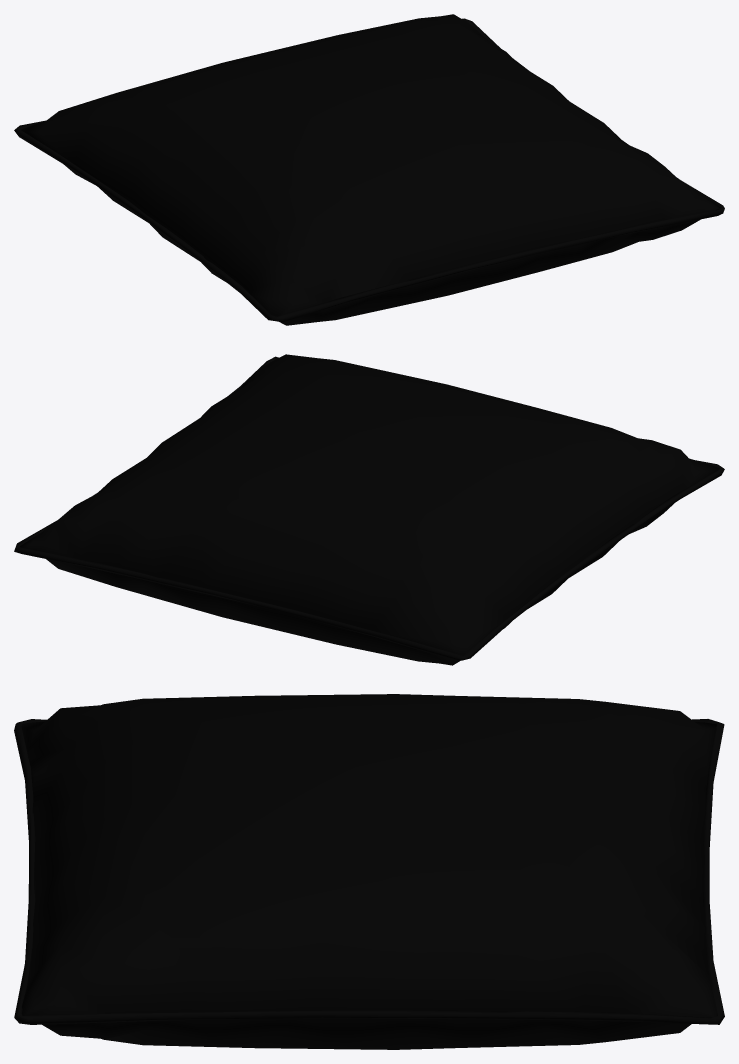
The model's file is LowPoly_Cushion.fbx.
3 views of the same model, one above another, from view 1: azimuth 30°, elevation 25°; view 2: azimuth 150°, elevation 25°; view 3: azimuth 270°, elevation 25° (orthographic). The views are drawn at different scales.
Parts seen in each view (by area): view 1: cushion_01; view 2: cushion_01; view 3: cushion_01.
Boxes of the visible parts, left/top/right/bottom form: cushion_01: left=14, top=14, right=724, bottom=325; cushion_01: left=14, top=354, right=724, bottom=665; cushion_01: left=14, top=694, right=724, bottom=1049.
Size of the model in its own units: 40.47 by 13.32 by 40.48.
